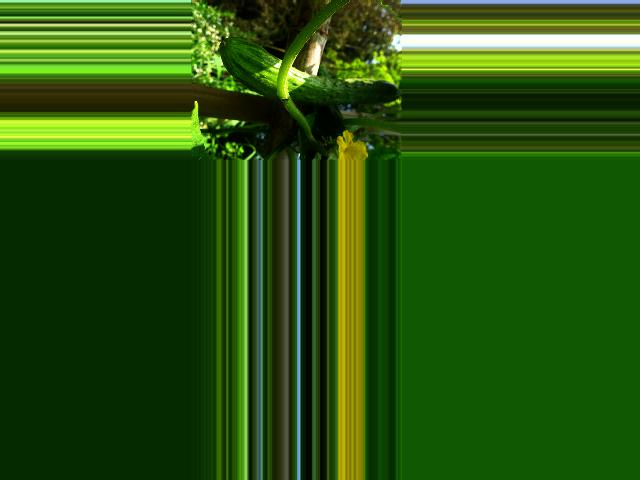cucumber: (219, 38, 401, 105)
